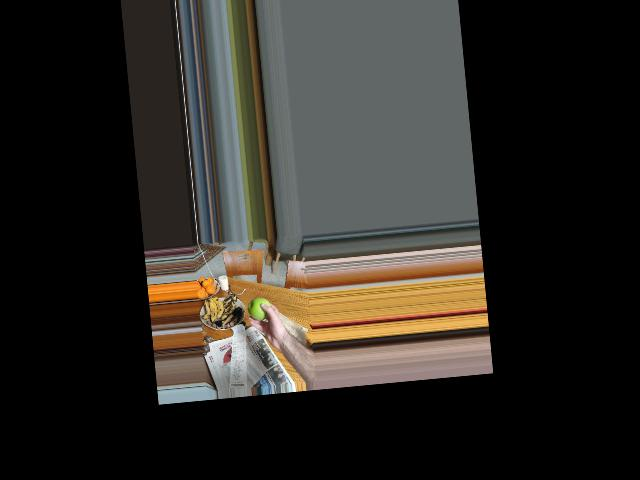apple: (246, 295, 274, 325)
